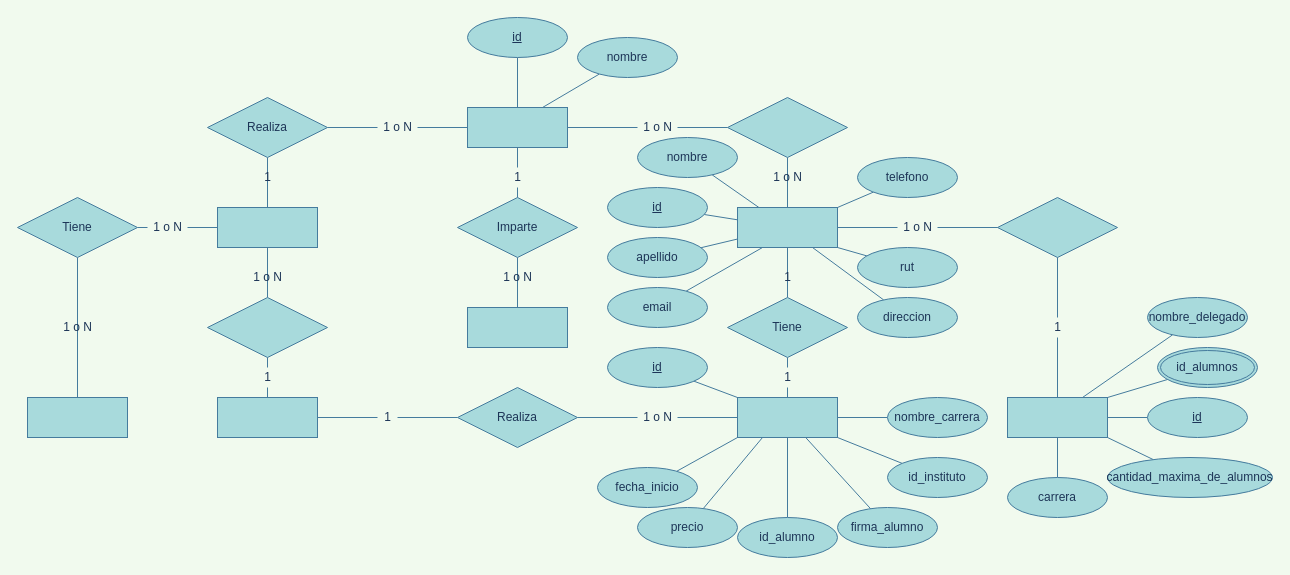
Some shapes in this 1290 by 575 pixel diagram are drawn without their labels. The centre of each missing label's shape, as x and y in pixels:
"ALUMNO" goes at pixel 787 227.
"ASIGNATURA" goes at pixel 517 127.
"Contrata" goes at pixel 267 327.
"Cursa" goes at pixel 787 127.
"CURSO" goes at pixel 1057 417.
"Inscrito" goes at pixel 1057 227.
"INSTITUTO" goes at pixel 267 417.
"MATRICULA" goes at pixel 787 417.
"PROFESION" goes at pixel 77 417.
"PROFESOR" goes at pixel 267 227.
"SALA" goes at pixel 517 327.
